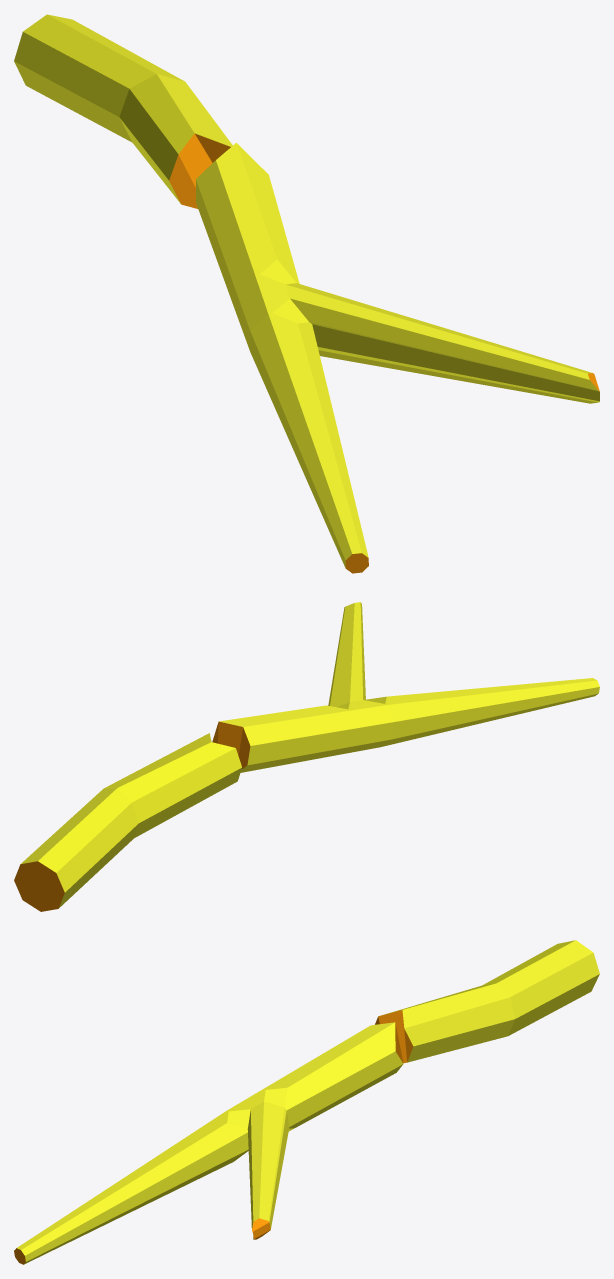
File: Stick_30.fbx
3 views of the same model, one above another, from view 1: azimuth 30°, elevation 25°; view 2: azimuth 150°, elevation 25°; view 3: azimuth 330°, elevation 25° (orthographic). The views are drawn at different scales.
Parts seen in each view (by area): view 1: Circle.328, Circle.321; view 2: Circle.328, Circle.321; view 3: Circle.328, Circle.321.
Boxes of the visible parts, <box> form: Circle.328: <box>196,143,599,573</box>; Circle.321: <box>14,14,232,208</box>; Circle.328: <box>212,602,599,772</box>; Circle.321: <box>14,733,241,911</box>; Circle.328: <box>14,1022,403,1264</box>; Circle.321: <box>375,940,599,1063</box>.
Bounding box in the file's own units: 14.62 × 6.88 × 45.42.
